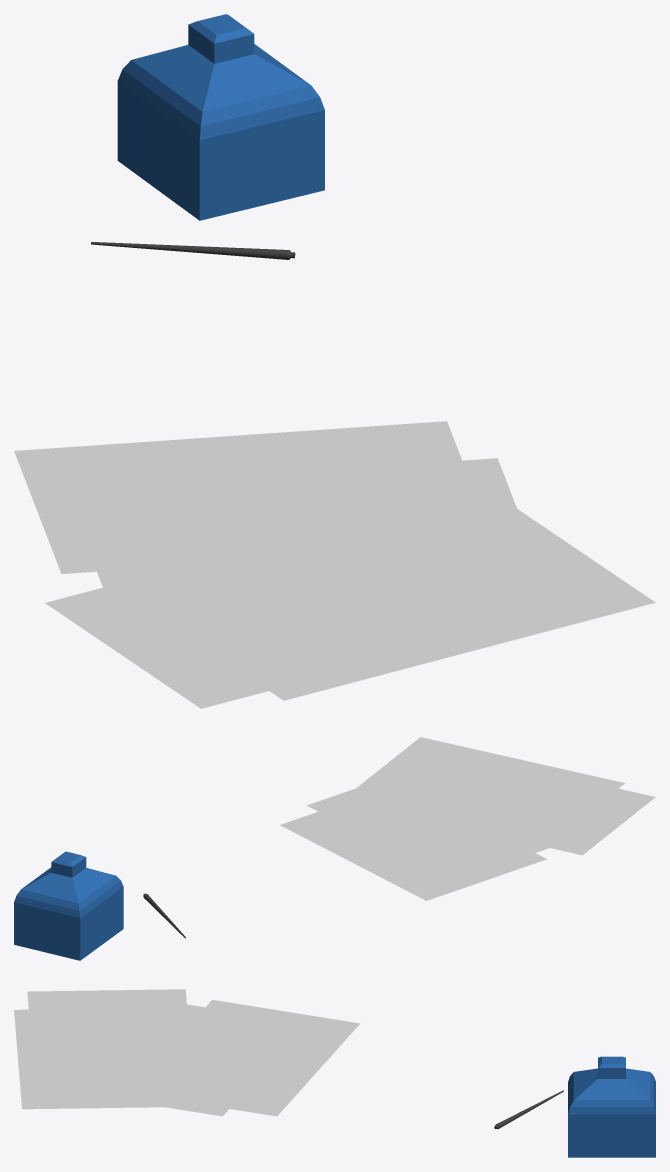
Rendered from DeskCosas.fbx.
3 renders of one model, top to bottom at view 1: azimuth 30°, elevation 25°; view 2: azimuth 150°, elevation 25°; view 3: azimuth 270°, elevation 25°, orthographic. The views are drawn at different scales.
Visible parts, largest first — view 1: SC_Paper, SC_Ink, SC_Pen; view 2: SC_Paper, SC_Ink; view 3: SC_Paper, SC_Ink, SC_Pen.
Boxes of the visible parts, x1=… form: SC_Paper: x1=14, y1=421, x2=655, y2=708; SC_Ink: x1=117, y1=14, x2=324, y2=220; SC_Pen: x1=91, y1=242, x2=295, y2=259; SC_Paper: x1=280, y1=737, x2=655, y2=900; SC_Ink: x1=14, y1=851, x2=123, y2=960; SC_Paper: x1=14, y1=989, x2=360, y2=1116; SC_Ink: x1=568, y1=1056, x2=655, y2=1157; SC_Pen: x1=494, y1=1090, x2=563, y2=1129.
Size of the model in its own units: 182 by 41.19 by 296.
